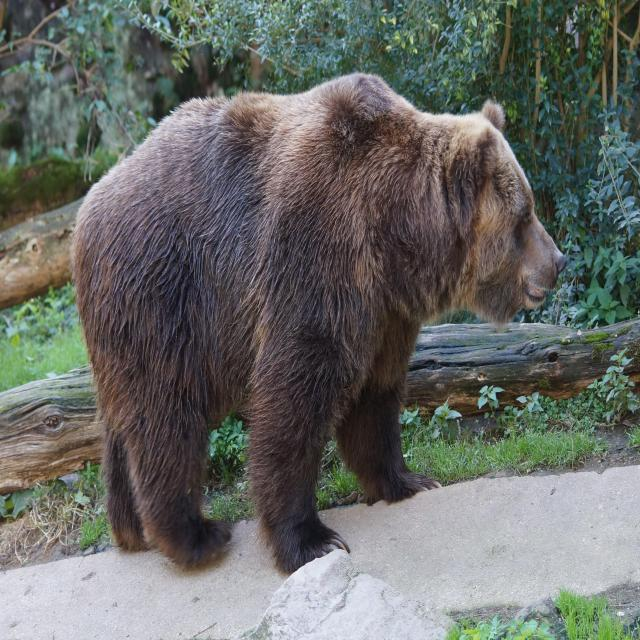Bear: (69, 74, 566, 580)
